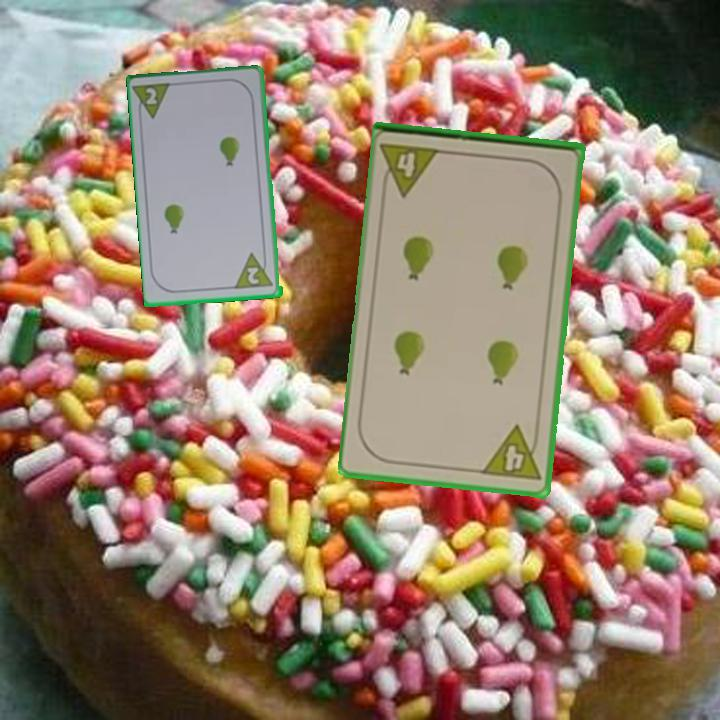2p: (244, 264, 262, 288), (142, 84, 160, 108)
4p: (478, 422, 544, 484), (378, 139, 444, 199)
